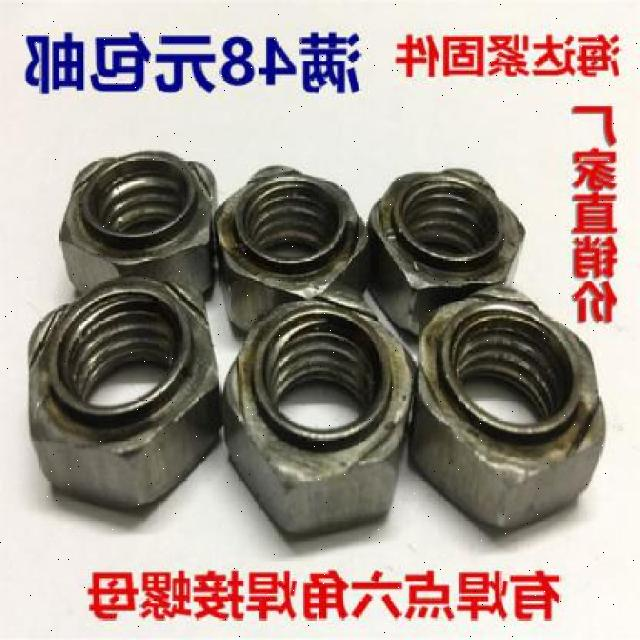Nut: (220, 292, 416, 543), (410, 284, 606, 534), (25, 278, 222, 512), (212, 162, 370, 336), (366, 167, 528, 336), (58, 149, 218, 305)
